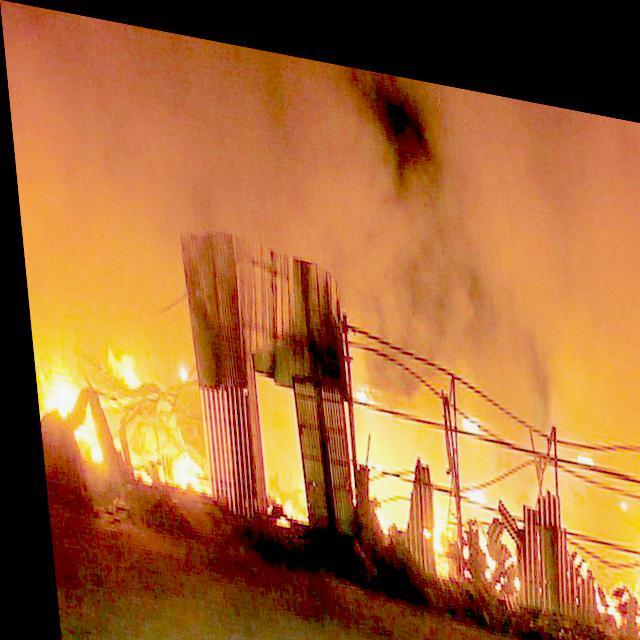Fire: (31, 343, 99, 468), (235, 445, 308, 543), (406, 482, 464, 596), (135, 429, 218, 506), (354, 455, 393, 540), (94, 334, 140, 394), (342, 350, 379, 406)
